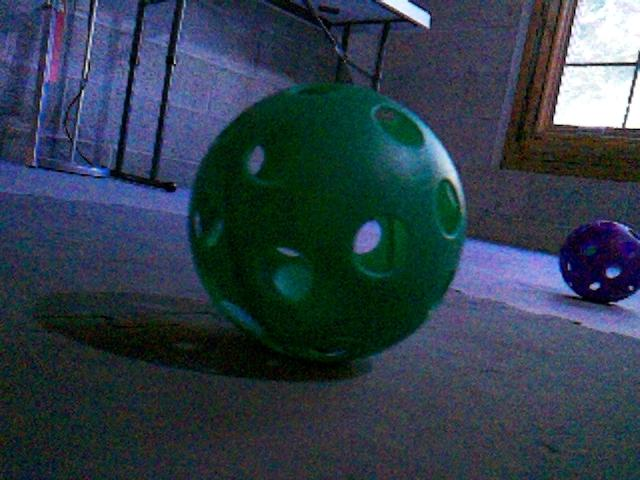Green: (184, 81, 469, 365)
Purple: (557, 218, 640, 304)
